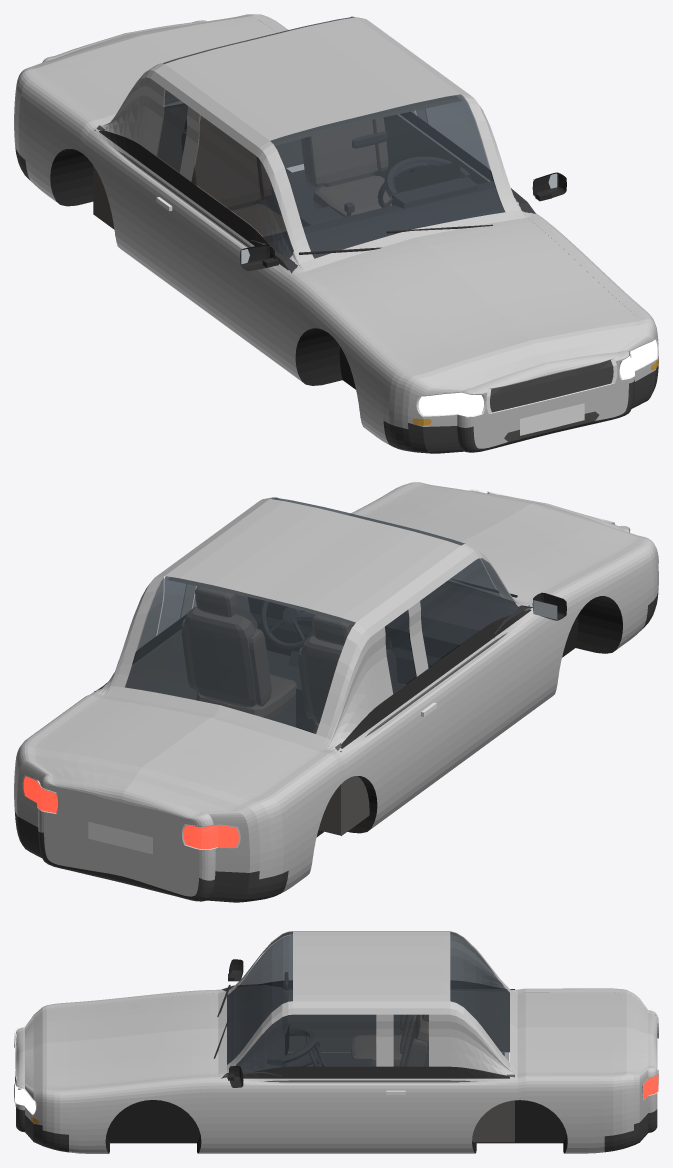
Rendered from car_diplomat.fbx.
3 views of the same model, one above another, from view 1: azimuth 30°, elevation 25°; view 2: azimuth 150°, elevation 25°; view 3: azimuth 270°, elevation 25° (orthographic). The views are drawn at different scales.
Visible parts, largest first — view 1: diplomat__hood, diplomat__glass, diplomat__roof, diplomat__doorR, diplomat__trunk, diplomat__seats, diplomat__interior, diplomat__fenderFR, diplomat__pillars, diplomat__quarterR, diplomat__cabin, diplomat__wells (+10 smaller); view 2: diplomat__glass, diplomat__trunk, diplomat__roof, diplomat__hood, diplomat__doorR, diplomat__seats, diplomat__quarterR, diplomat__rearPanel, diplomat__pillars, diplomat__interior, diplomat__fenderFR, diplomat__cabin (+7 smaller); view 3: diplomat__hood, diplomat__glass, diplomat__doorL, diplomat__trunk, diplomat__roof, diplomat__quarterL, diplomat__fenderFL, diplomat__pillars, diplomat__cabin, diplomat__interior, diplomat__wells, diplomat__seals (+6 smaller).
Boxes of the visible parts, left/top/right/bottom form: diplomat__hood: left=294, top=215, right=648, bottom=394; diplomat__glass: left=157, top=17, right=517, bottom=257; diplomat__roof: left=154, top=17, right=470, bottom=147; diplomat__doorR: left=132, top=165, right=285, bottom=367; diplomat__trunk: left=24, top=14, right=536, bottom=274; diplomat__seats: left=181, top=115, right=394, bottom=236; diplomat__interior: left=250, top=131, right=535, bottom=273; diplomat__fenderFR: left=274, top=268, right=463, bottom=445; diplomat__pillars: left=103, top=16, right=521, bottom=265; diplomat__quarterR: left=14, top=69, right=143, bottom=263; diplomat__cabin: left=93, top=95, right=488, bottom=268; diplomat__wells: left=50, top=149, right=355, bottom=389; diplomat__glass: left=126, top=498, right=517, bottom=733; diplomat__trunk: left=24, top=579, right=532, bottom=823; diplomat__roof: left=154, top=499, right=471, bottom=629; diplomat__hood: left=350, top=482, right=648, bottom=603; diplomat__doorR: left=387, top=612, right=540, bottom=814; diplomat__seats: left=181, top=586, right=352, bottom=733; diplomat__quarterR: left=209, top=716, right=398, bottom=892; diplomat__rearPanel: left=38, top=776, right=215, bottom=896; diplomat__pillars: left=102, top=497, right=521, bottom=745; diplomat__interior: left=248, top=583, right=532, bottom=733; diplomat__fenderFR: left=529, top=539, right=658, bottom=710; diplomat__cabin: left=94, top=577, right=531, bottom=835; diplomat__hood: left=16, top=989, right=218, bottom=1092; diplomat__glass: left=227, top=932, right=509, bottom=1071; diplomat__doorL: left=230, top=1078, right=442, bottom=1153; diplomat__trunk: left=218, top=988, right=657, bottom=1078; diplomat__roof: left=293, top=931, right=450, bottom=1008; diplomat__quarterL: left=442, top=1069, right=648, bottom=1153; diplomat__fenderFL: left=25, top=1078, right=230, bottom=1153; diplomat__pillars: left=227, top=931, right=509, bottom=1075; diplomat__cabin: left=224, top=989, right=514, bottom=1142; diplomat__interior: left=221, top=972, right=504, bottom=1078; diplomat__wells: left=105, top=1100, right=567, bottom=1153; diplomat__seals: left=227, top=980, right=509, bottom=1078.
Bounding box in the file's own units: 2.16 × 1.26 × 5.02.
